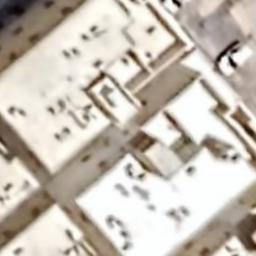van: (215, 42, 253, 77)
